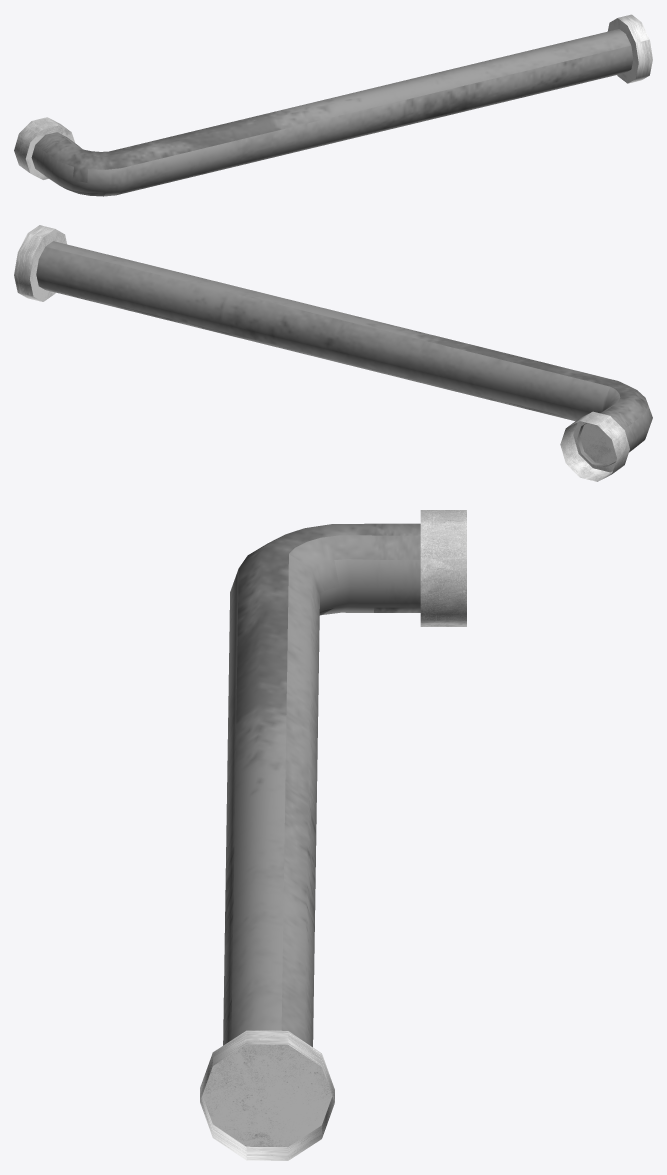
Rendered from Pipe Single.fbx.
3 views of the same model, one above another, from view 1: azimuth 30°, elevation 25°; view 2: azimuth 150°, elevation 25°; view 3: azimuth 270°, elevation 25° (orthographic). The views are drawn at different scales.
Visible parts, largest first — view 1: Pipe Single; view 2: Pipe Single; view 3: Pipe Single.
Boxes of the visible parts, <box> form: Pipe Single: <box>14,14,652,196</box>; Pipe Single: <box>14,225,652,481</box>; Pipe Single: <box>200,510,466,1160</box>.
Size of the model in its own units: 199 by 19.33 by 40.23.
